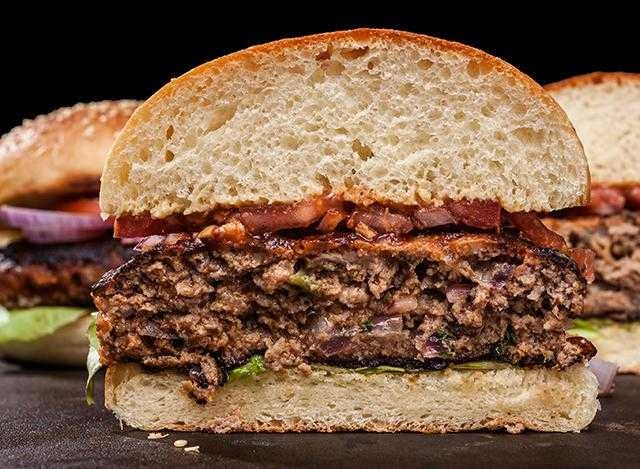hamburger: (96, 30, 611, 437)
